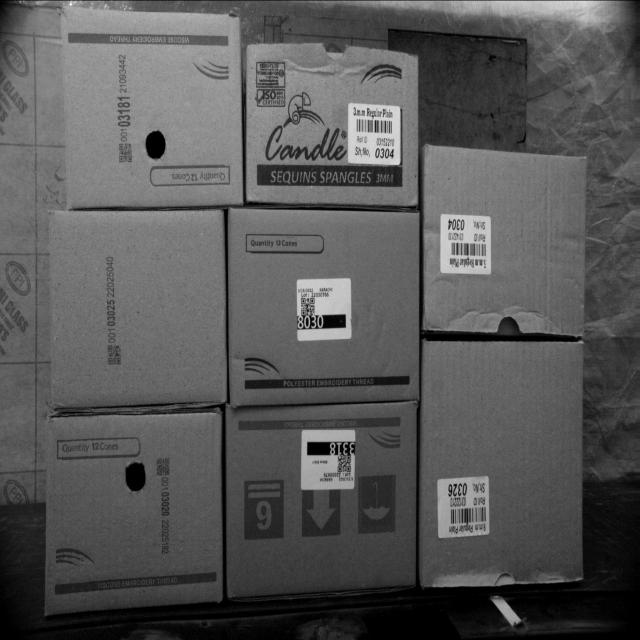cardboxes: (423, 344, 583, 586), (226, 208, 419, 398), (58, 11, 245, 204), (226, 404, 420, 590), (44, 414, 228, 606), (51, 212, 228, 408), (426, 148, 585, 336), (244, 41, 420, 203)
